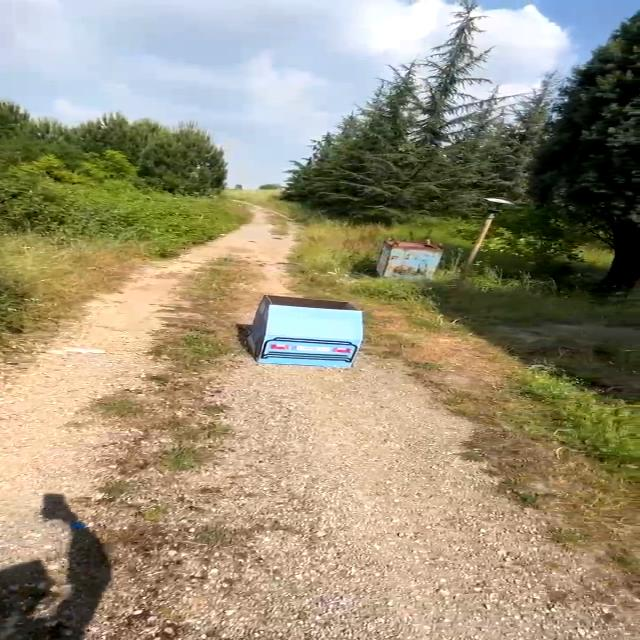blue_car: (231, 288, 384, 380)
